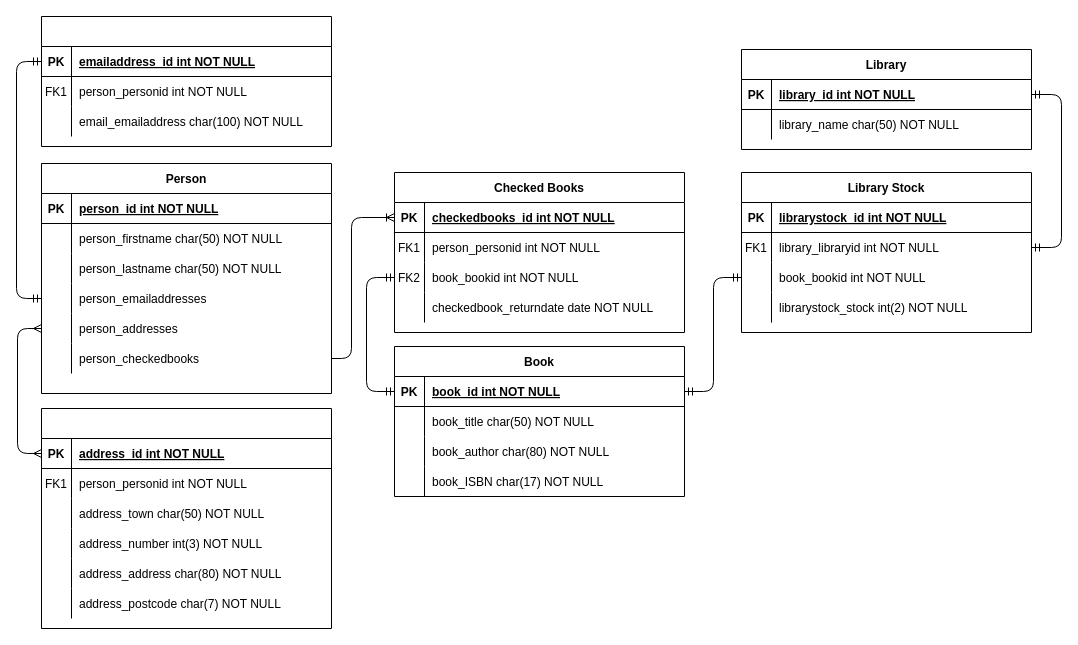
The diagram is 1078 pixels wide and 645 high, and some of its shapes have lost their labels. Each missing label, with the box of its shape:
Addresses: (40, 408, 332, 628)
Email Addresses: (40, 16, 332, 146)
